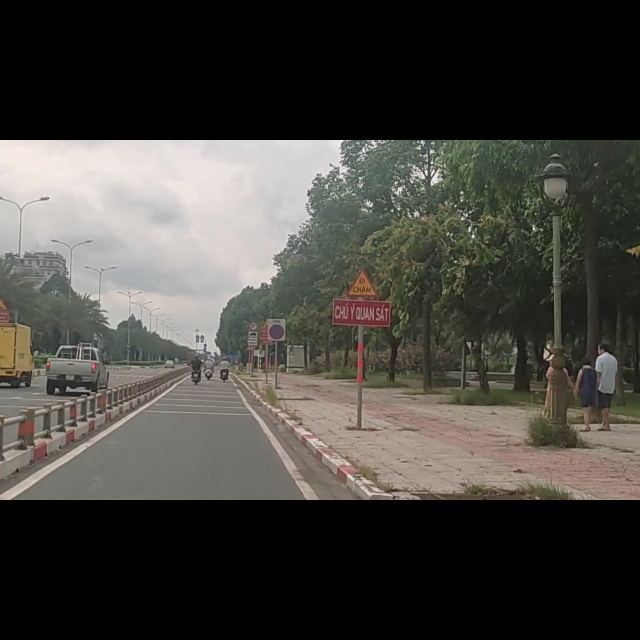bien_cam: (346, 230, 380, 280), (265, 316, 287, 359), (247, 338, 259, 367), (248, 322, 259, 339)
